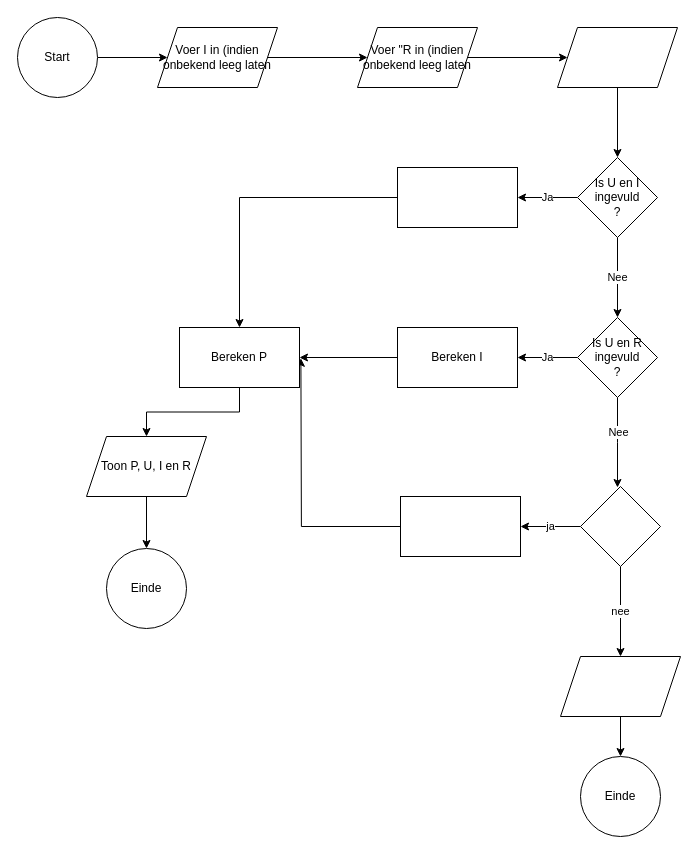
Image size: 698x854. Some labels were removed from this diagram. Each missing label, with the centre of its shape:
Bereken R: the point at 457,197
Bereken U: the point at 460,526
Foute invoer: the point at 620,686
Is Ien R ingevuld ?: the point at 620,526
Voer U in (indien onbekend leeg laten: the point at 617,57
